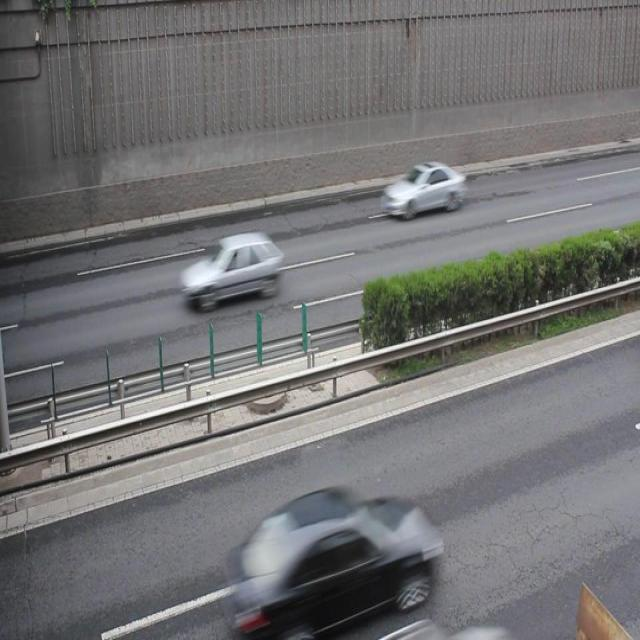car: (230, 483, 436, 640), (180, 229, 281, 307), (382, 156, 465, 220)
